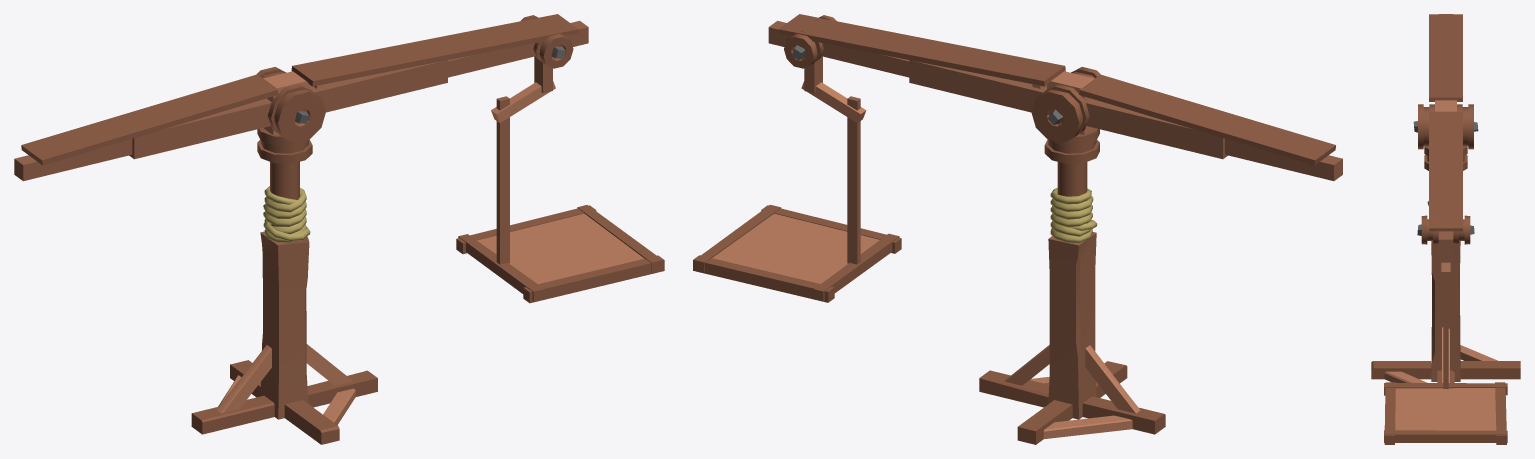
Rendered from ice_scales_wooden.FBX.
3 views of the same model, side by side, from view 1: azimuth 30°, elevation 25°; view 2: azimuth 150°, elevation 25°; view 3: azimuth 270°, elevation 25° (orthographic). The views are drawn at different scales.
Parts seen in each view (by area): view 1: arm, base, platform, arm_long, leg, pivot, axel, hinge, height; view 2: arm, base, platform, arm_long, leg, pivot, axel, hinge, height; view 3: platform, base, arm_long, arm, pivot, leg, hinge, axel.
Part boxes in pixels (x1,y1,x2,y2): arm: (14,37,545,181); base: (191,186,377,444); platform: (456,205,664,303); arm_long: (292,14,588,85); leg: (491,56,555,264); pivot: (256,67,325,143); axel: (257,71,312,163); hinge: (520,15,573,68); height: (270,161,299,232); arm: (812,37,1342,180); base: (979,188,1165,444); platform: (693,204,901,302); arm_long: (768,14,1064,86); leg: (801,56,866,264); pivot: (1031,67,1100,143); axel: (1044,71,1099,163); hinge: (784,15,836,68); height: (1057,162,1087,211); platform: (1384,382,1507,444); base: (1371,201,1520,382); arm_long: (1429,111,1462,252); arm: (1429,14,1462,101); pivot: (1413,104,1478,149); leg: (1439,253,1452,388); hinge: (1417,215,1474,244); axel: (1424,100,1467,170).
Size of the model in its own units: 9.85 by 5.13 by 2.56.
